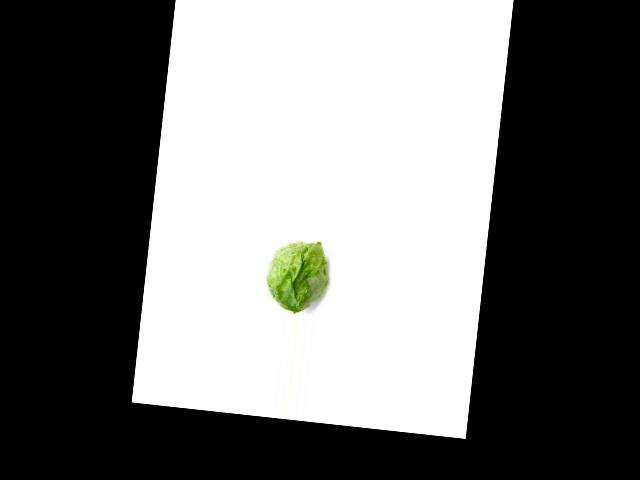lettuce: (258, 236, 335, 315)
